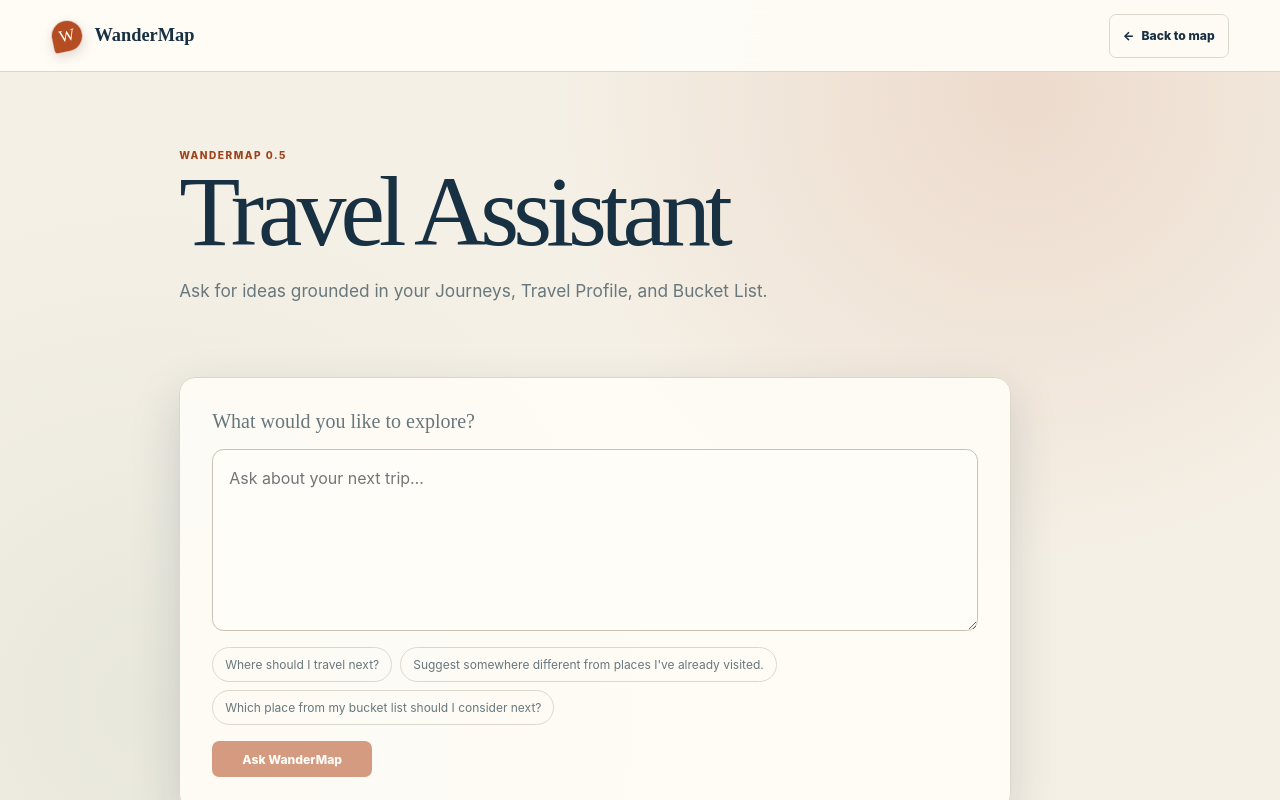
TravelAssistantView › rejects an empty question and sends a trimmed prompt
The image size is (1280, 800).
Expected: the button "Ask WanderMap" is disabled, [212,741,372,778]
Type "  Where next?  " into the text box labelled "What would you like to explore?".
click(595, 540); type("  Where next?  ")  # box [212,449,978,632]
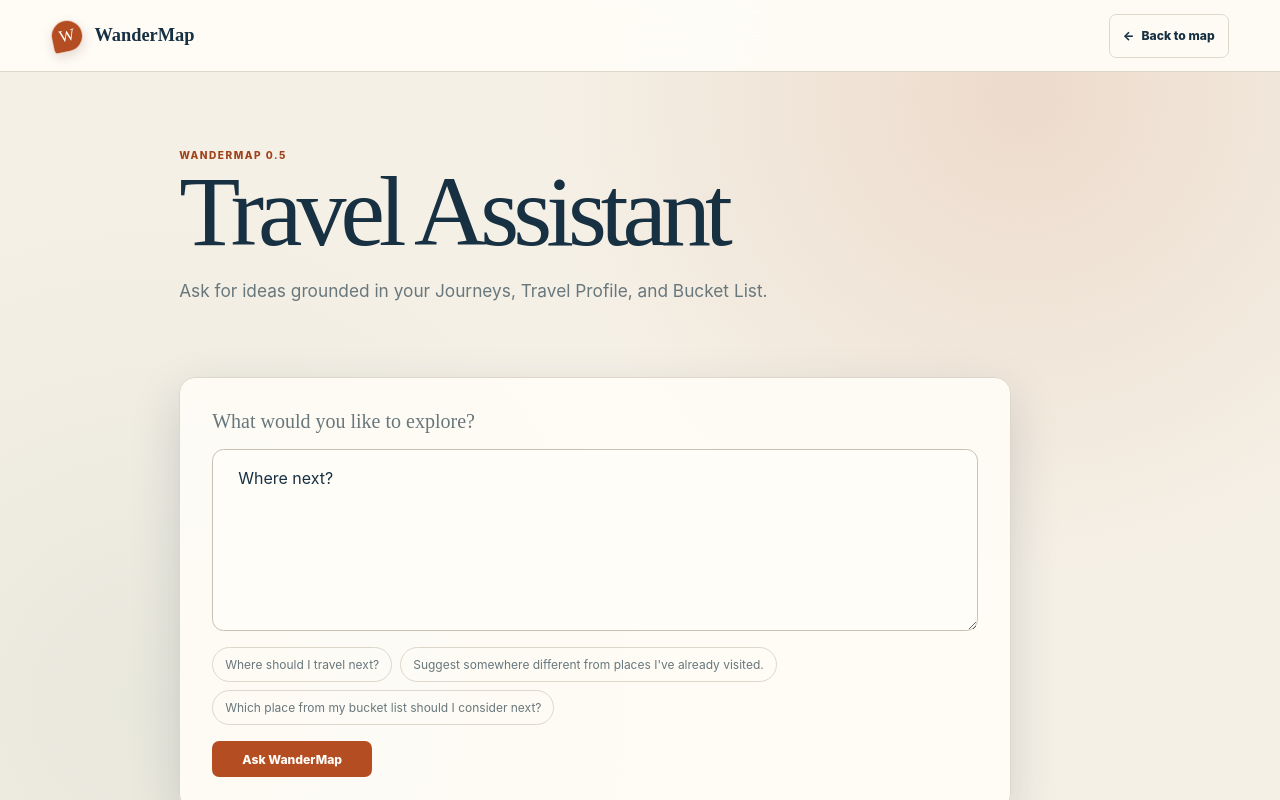
Click the button "Ask WanderMap".
click(292, 759)  # box [212,741,372,778]
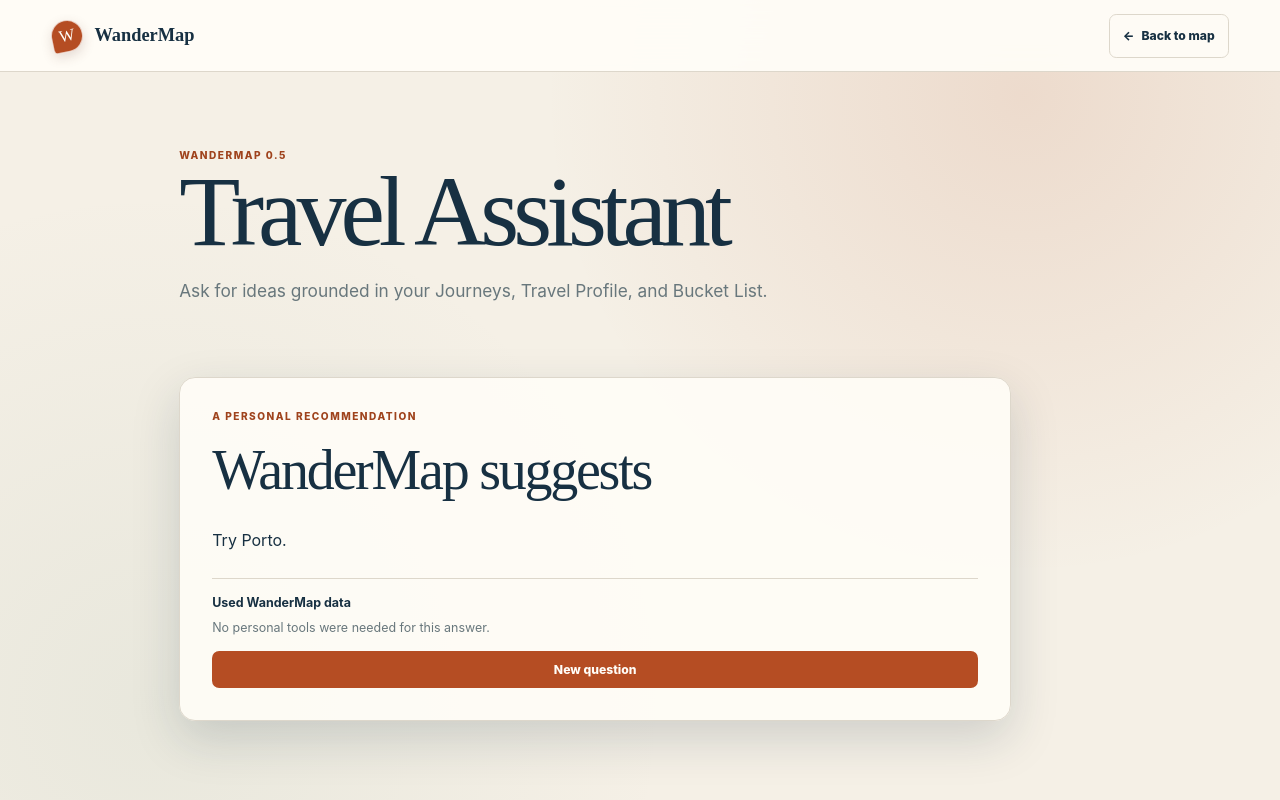
Expected: the text "Try Porto." is shown, [212,530,287,550]
